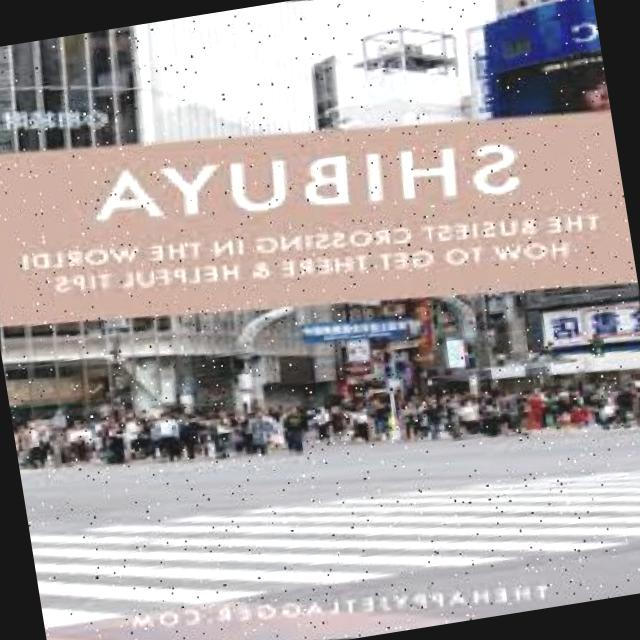Person: (242, 406, 282, 458), (278, 403, 312, 462), (147, 412, 185, 464)
